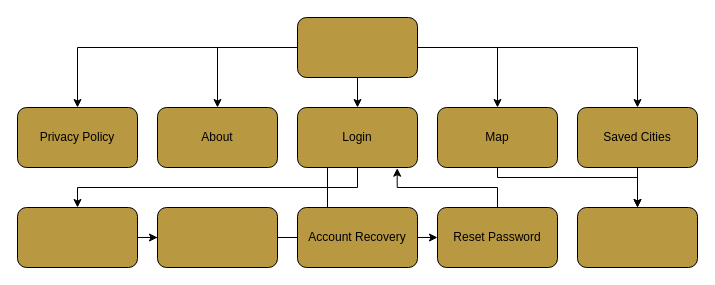
This 715x285 diagram has some shape labels left out. The shapes that lost their labels are listed below. From the top down, each one's centre as x and y in pixels, then its label:
At point (357, 47): "Home Page".
At point (77, 237): "Sign up".
At point (217, 237): "City Rating".
At point (637, 237): "City View".
